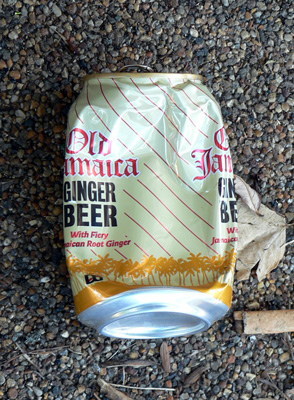litter: (60, 70, 238, 343), (240, 310, 294, 333)
